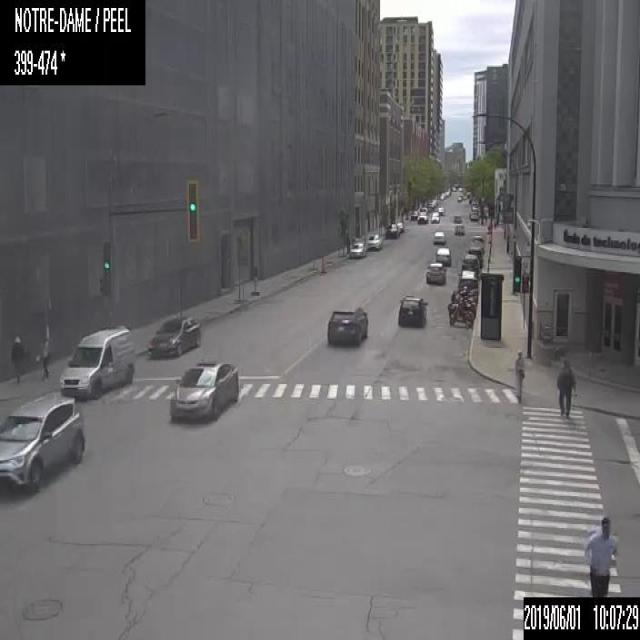construction: (319, 255, 325, 273)
pedestrian: (583, 514, 618, 594), (556, 359, 576, 416), (34, 335, 52, 377), (10, 332, 24, 381), (514, 349, 526, 403)
vehicle: (0, 392, 85, 495), (59, 326, 134, 398), (167, 357, 239, 420), (146, 314, 202, 358), (326, 300, 369, 344), (397, 292, 428, 328), (447, 286, 476, 314), (448, 304, 473, 325), (425, 260, 446, 284), (457, 269, 478, 290), (461, 252, 479, 274), (435, 246, 451, 266), (468, 244, 482, 266), (348, 241, 367, 256), (366, 233, 382, 250), (455, 291, 477, 302), (384, 222, 399, 237), (471, 234, 484, 250), (432, 230, 446, 244), (453, 222, 465, 235), (416, 210, 428, 222), (430, 210, 439, 223), (469, 211, 479, 221), (453, 213, 462, 223), (395, 221, 403, 232), (410, 210, 418, 221), (418, 206, 427, 214), (437, 206, 443, 214)
